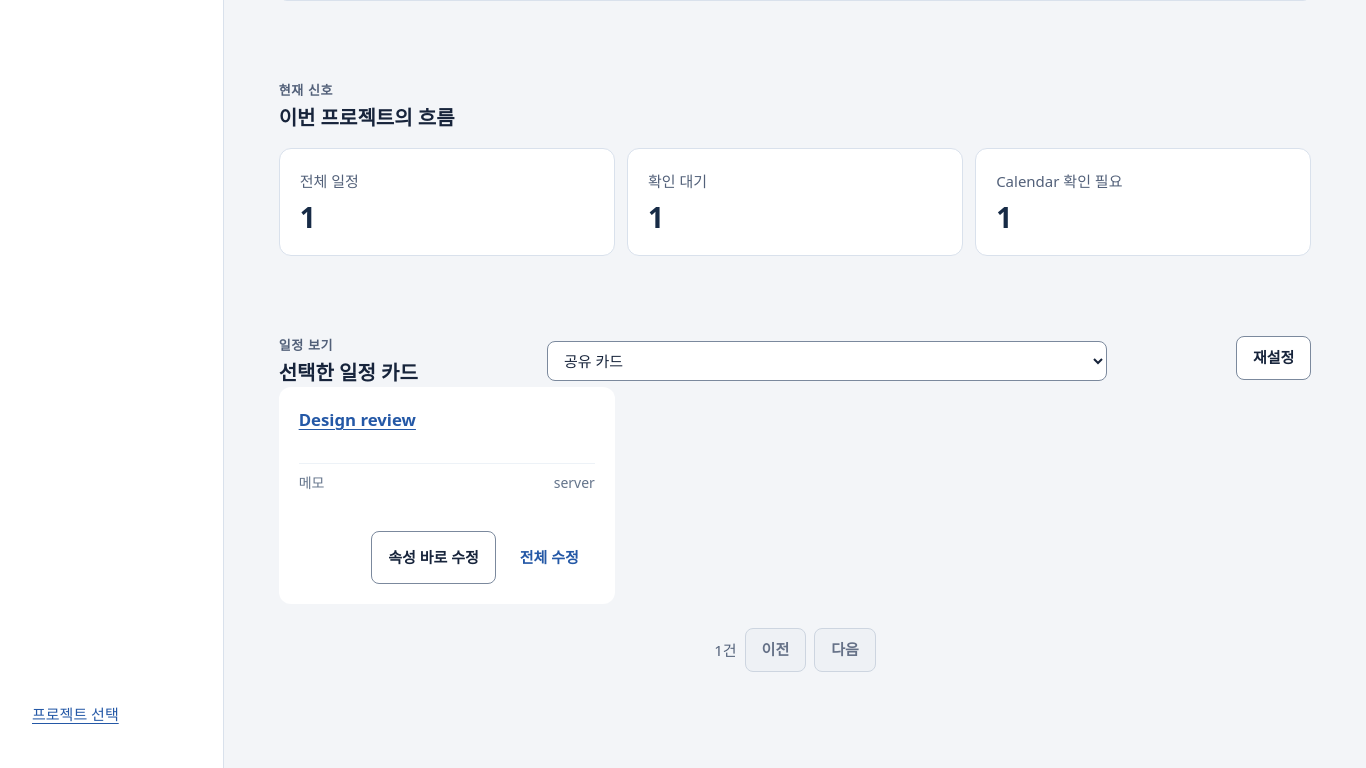
Scenario: dashboard denial locks an already-open value editor
This screenshot has width=1366, height=768.
(page scrolled)
Click the button "속성 바로 수정": [434, 557] box [371,531,496,584]
(page scrolled)
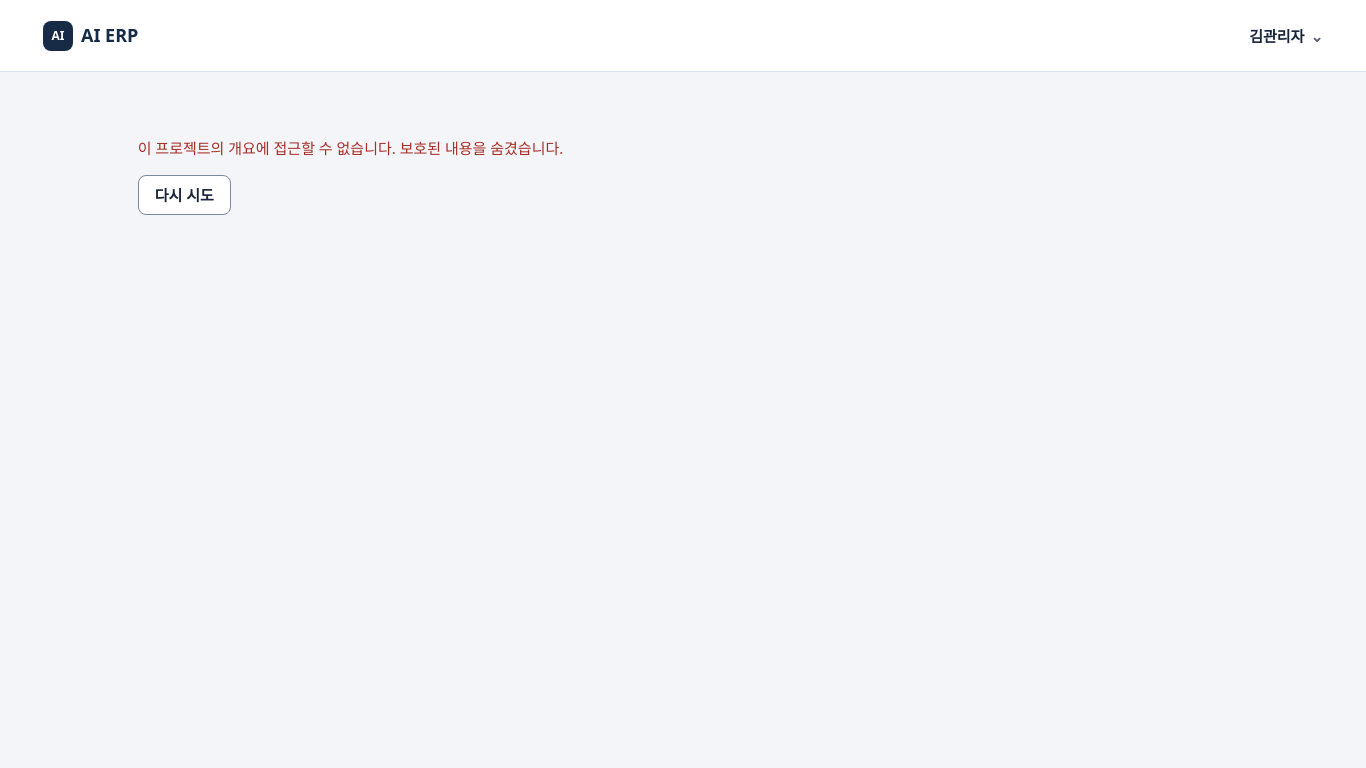
Expected: the text "이 프로젝트의 개요에 접근할 수 없습니다. 보호된 내용을 숨겼습니다." is shown, [138,138,563,158]
